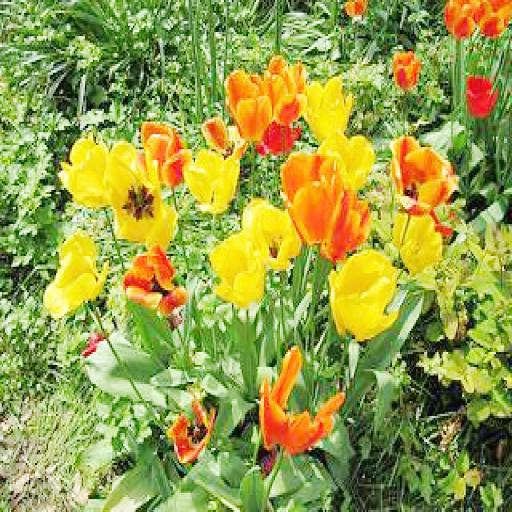tulip: (259, 350, 339, 448), (330, 247, 403, 350), (106, 158, 179, 252), (389, 132, 456, 214), (283, 152, 339, 246), (46, 235, 104, 322), (124, 245, 186, 318), (213, 226, 264, 309), (62, 128, 110, 205), (224, 70, 270, 150), (317, 124, 371, 192), (307, 68, 355, 143), (325, 186, 373, 260), (142, 111, 188, 188), (166, 394, 220, 458), (395, 209, 442, 275), (189, 150, 237, 212), (268, 51, 302, 126), (466, 74, 499, 120), (389, 47, 422, 92)
